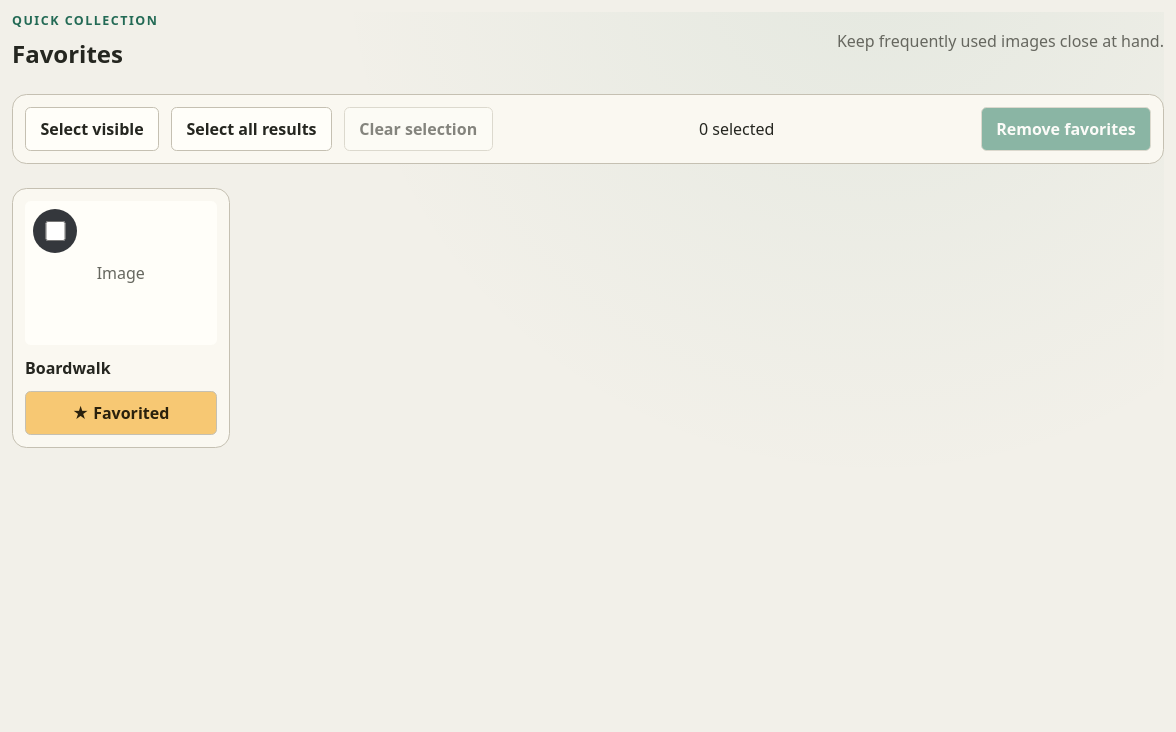
curation favorites › restores a favorite when a single optimistic update conflicts
Expected: the heading "Boardwalk" is shown, [25,357,111,379]
What coordinates should you click on to do the following:
click the button with aria-label "Remove Boardwalk from favorites"
I would click on:
 (121, 413)
Its box is [25,391,217,435].
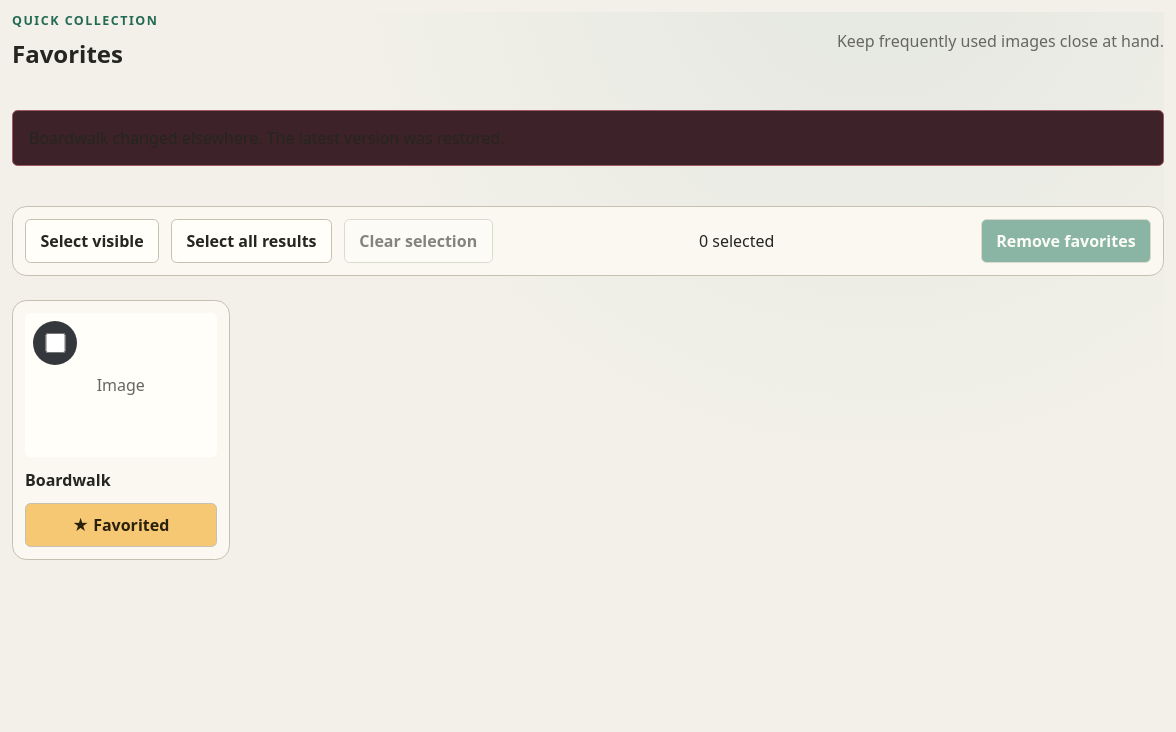
Expected: the heading "Boardwalk" is shown, [25,469,111,491]
Now the message reads "Boardwalk changed elsewhere. The latest version was restored.", box [29,127,505,149]
